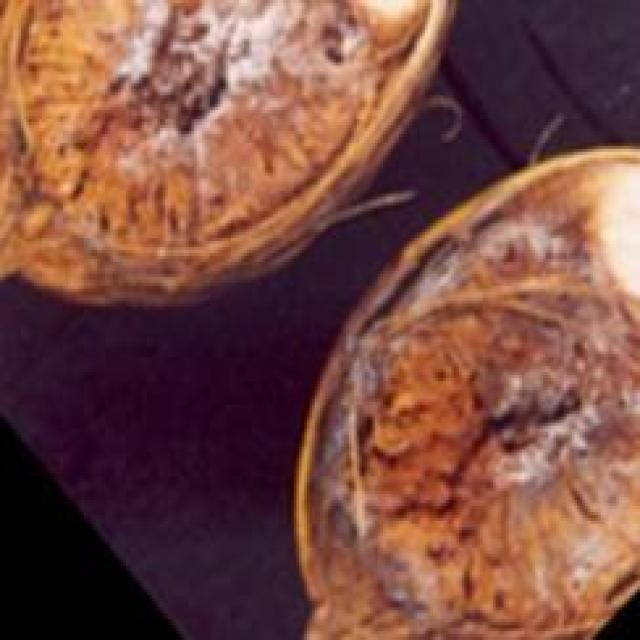damaged: (291, 146, 637, 637)
